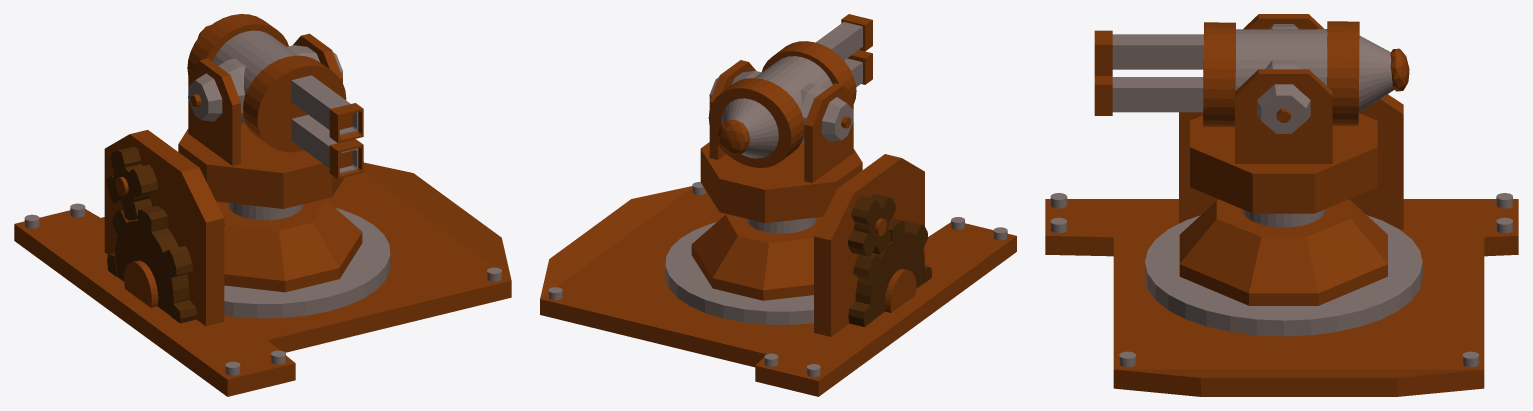
The model's file is Turm 11.fbx.
3 renders of one model, left to right at view 1: azimuth 30°, elevation 25°; view 2: azimuth 150°, elevation 25°; view 3: azimuth 270°, elevation 25°, orthographic. The views are drawn at different scales.
Parts seen in each view (by area): view 1: Cylinder, Cube.002; view 2: Cylinder, Cube.002; view 3: Cylinder, Cube.002.
Part boxes in pixels (x1,y1,x2,y2): Cylinder: (14,130,511,396); Cube.002: (178,14,363,220); Cylinder: (540,154,1016,396); Cube.002: (700,14,872,233); Cylinder: (1045,94,1518,396); Cube.002: (1094,14,1409,227).
Size of the model in its own units: 318 by 214 by 341.
